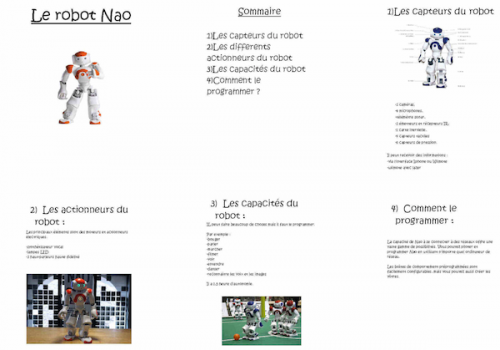nao: (44, 46, 119, 134), (51, 278, 111, 345), (414, 21, 458, 97), (240, 301, 268, 346), (281, 297, 301, 338), (268, 299, 287, 339)
